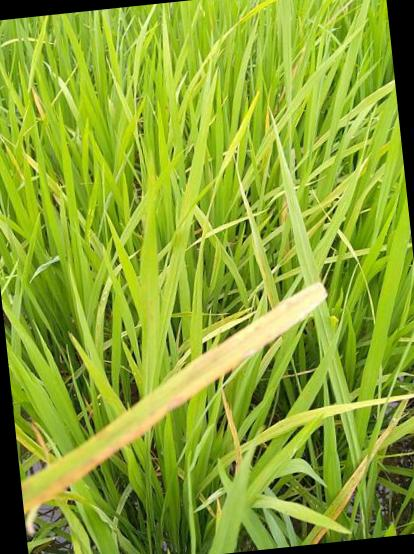Leaf Streak: (20, 282, 328, 518)
